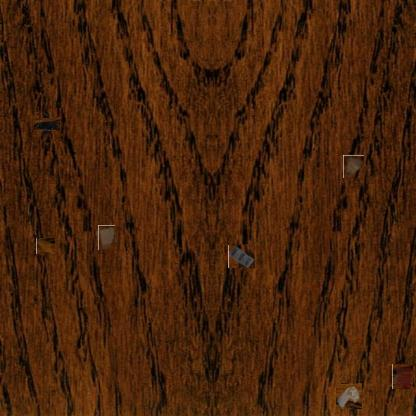dirty: (336, 383, 362, 409), (228, 244, 255, 268), (343, 155, 364, 178), (96, 227, 117, 248), (37, 114, 57, 134)
liquid: (391, 365, 414, 388), (37, 238, 55, 255)
